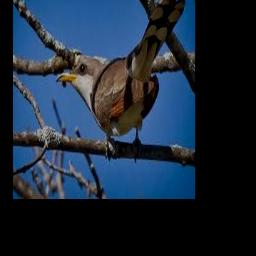Cuckoo: (56, 0, 185, 146)
